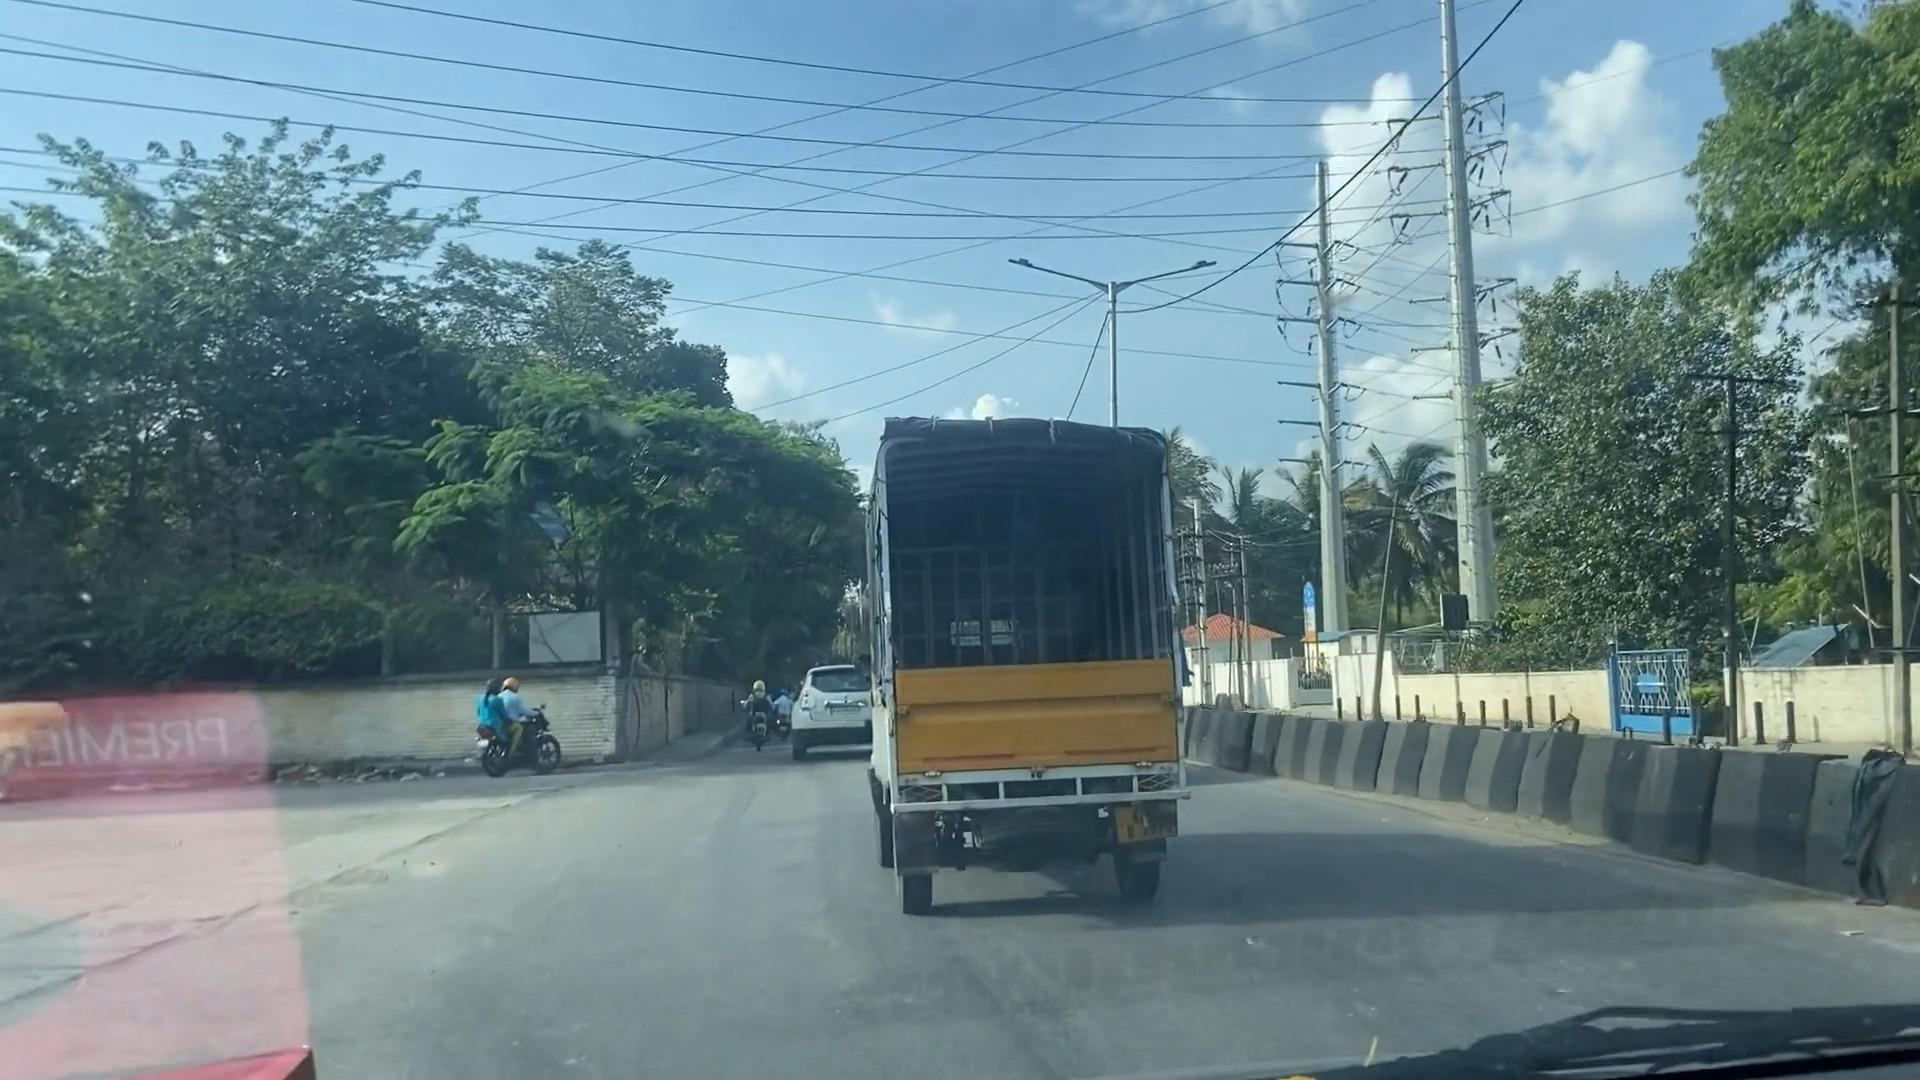HMV: (870, 425, 1163, 909)
RoadDamages: (36, 787, 524, 1009)
